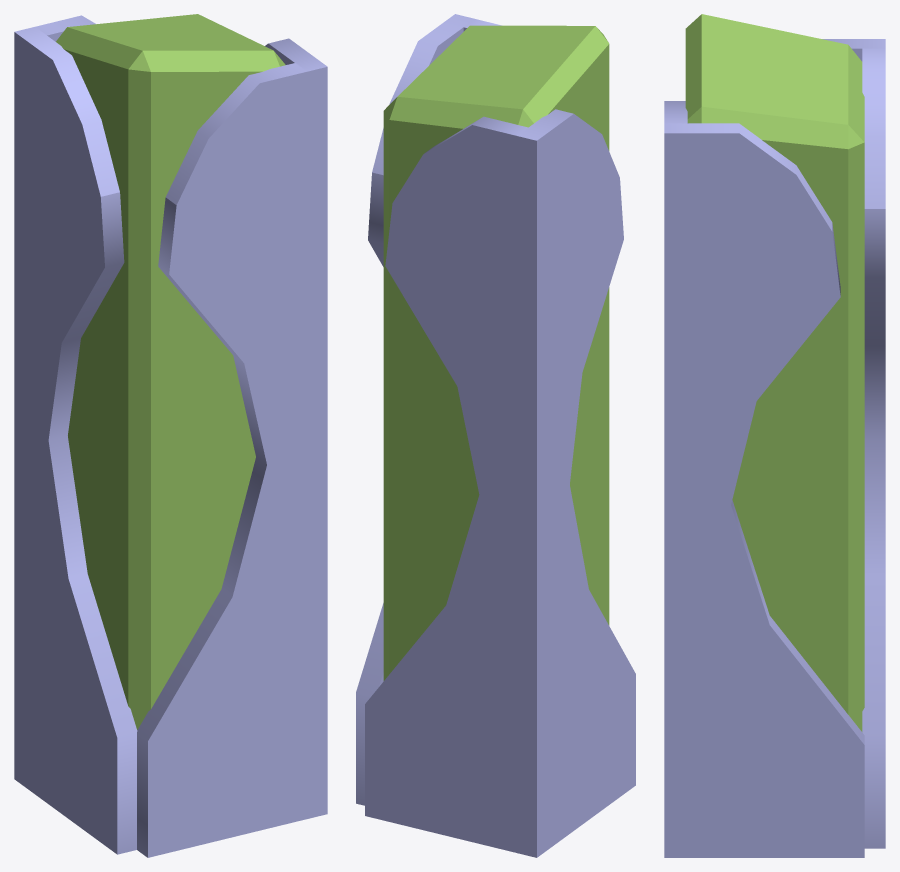
Rendered from U_gebouw1.fbx.
3 renders of one model, left to right at view 1: azimuth 30°, elevation 25°; view 2: azimuth 150°, elevation 25°; view 3: azimuth 270°, elevation 25°, orthographic. The views are drawn at different scales.
Parts seen in each view (by area): view 1: glass, green; view 2: glass, green; view 3: glass, green.
Boxes of the visible parts, <box> form: glass: <box>14,15,327,857</box>; green: <box>56,14,285,729</box>; glass: <box>356,14,635,857</box>; green: <box>383,25,609,680</box>; glass: <box>664,39,885,857</box>; green: <box>685,14,864,731</box>.
Bounding box in the file's own units: 5.22 × 19.78 × 5.18.
